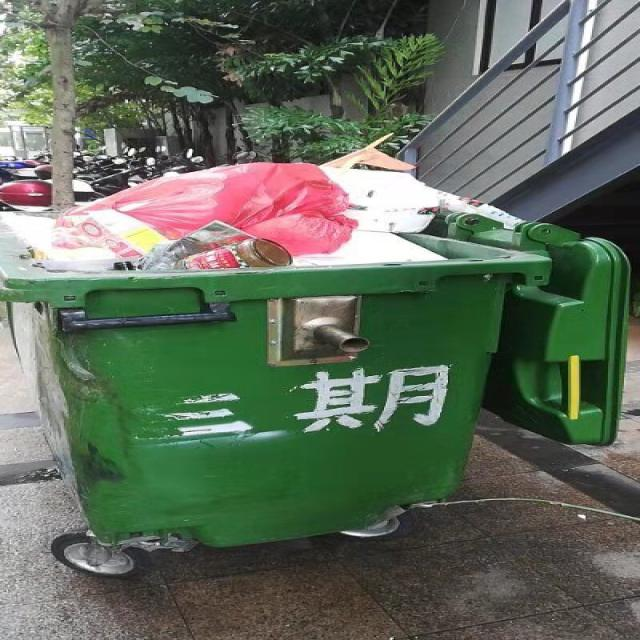overflow: (0, 135, 630, 548)
